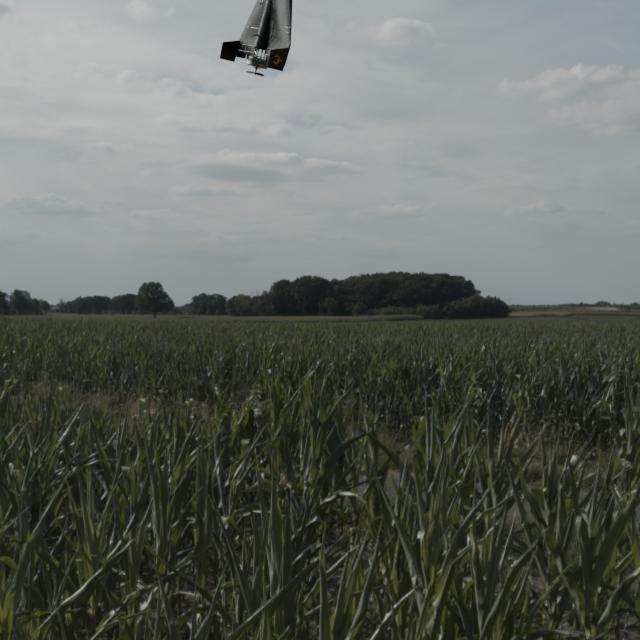Airaplan: (220, 0, 301, 76)
